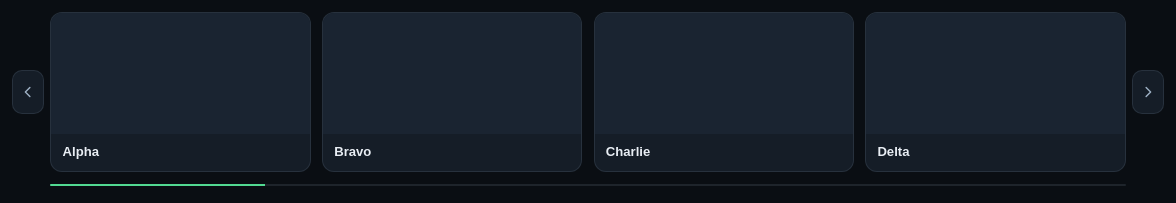
Test: GameRail › does not auto-rotate when reduced motion is requested
Expected: the button "Echo" is not shown
Click the button named "Next" at (1148, 92), box [1132, 70, 1164, 114]
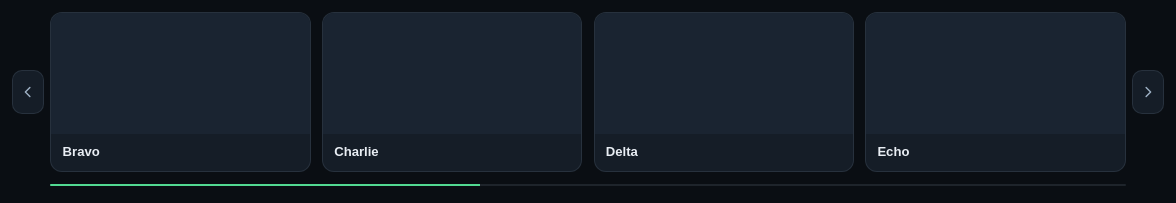
Expected: the button "Echo" is shown, [865, 12, 1126, 172]
